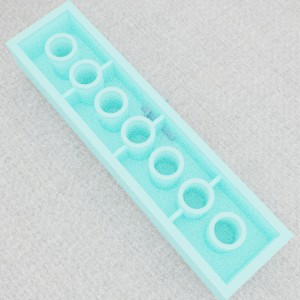lego: (5, 0, 293, 300), (141, 94, 189, 143)
